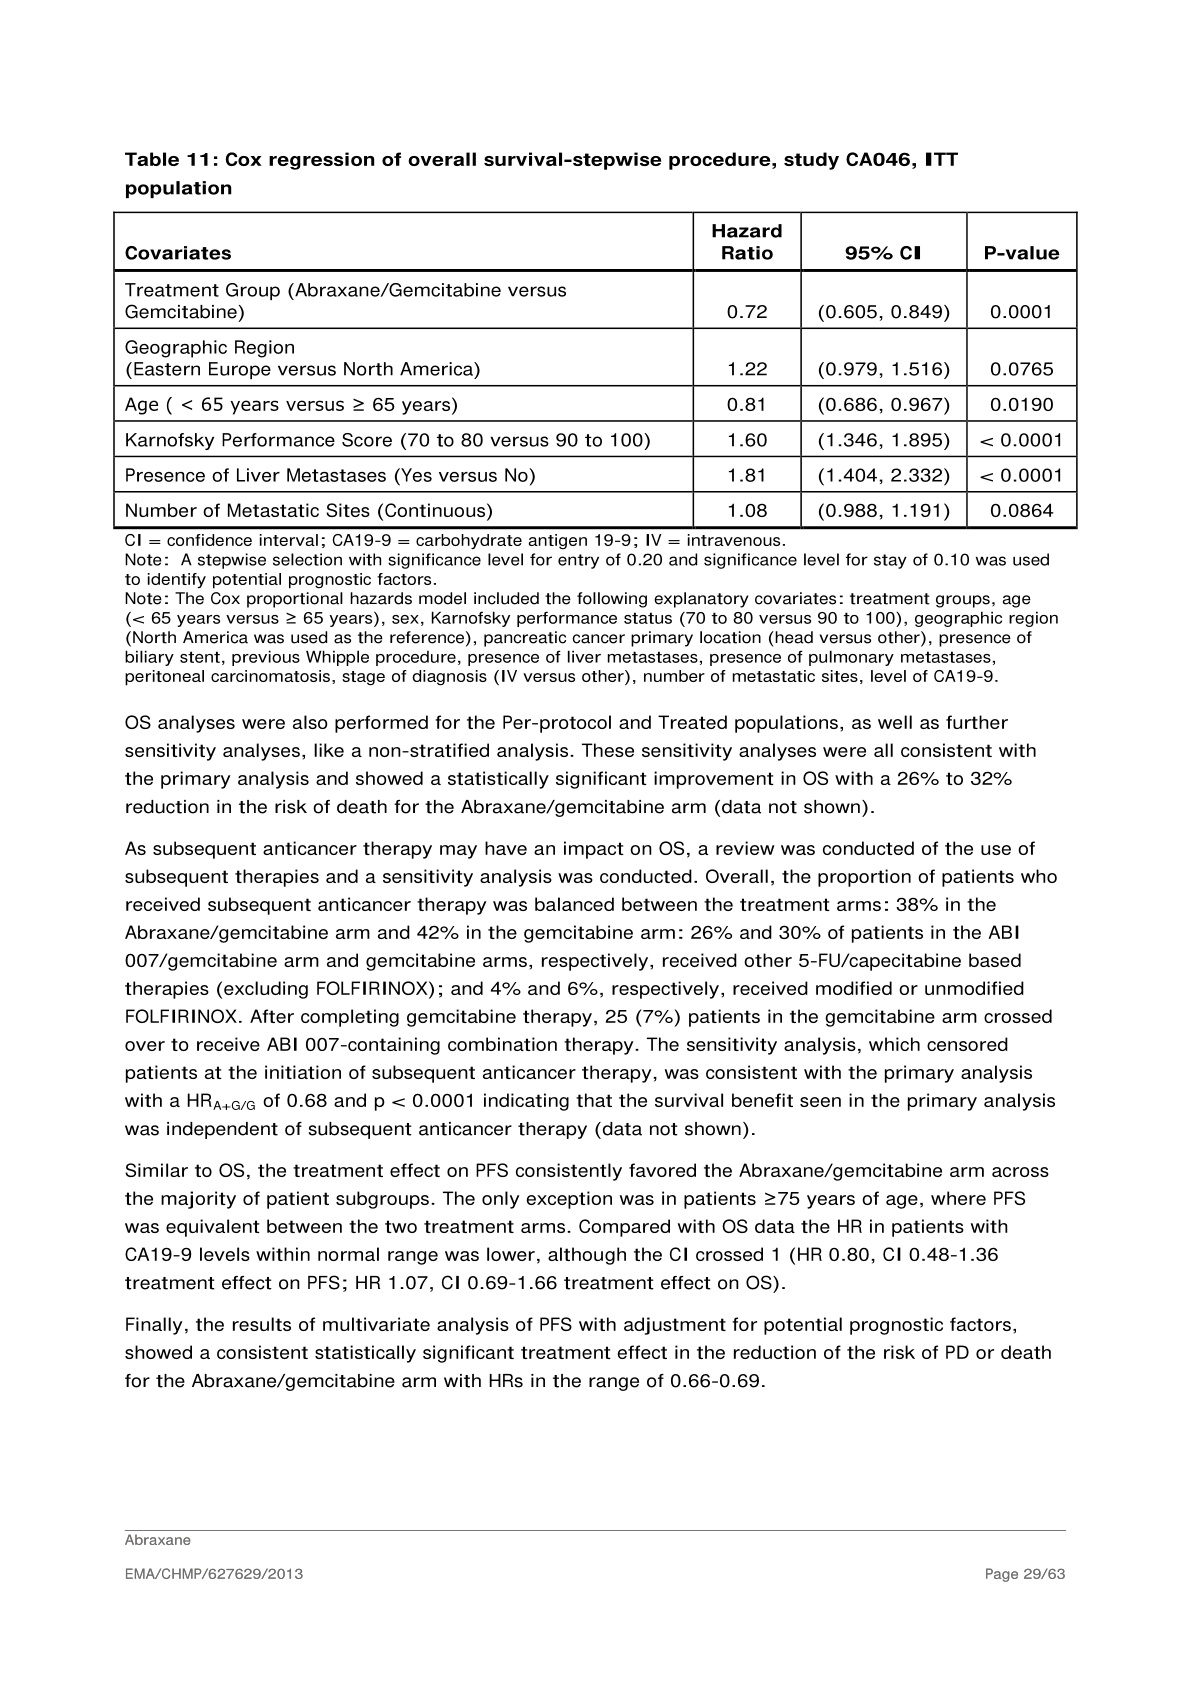full_lined: (113, 210, 1078, 530)
